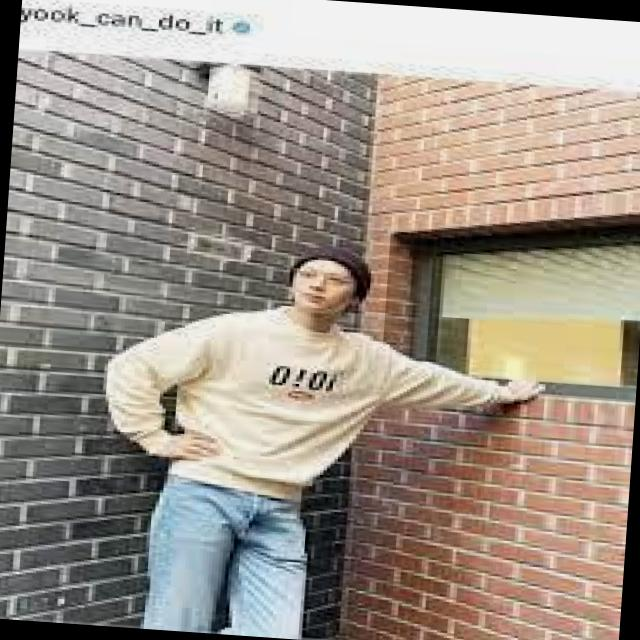pants: (136, 469, 319, 640)
sweater: (89, 300, 524, 494)
